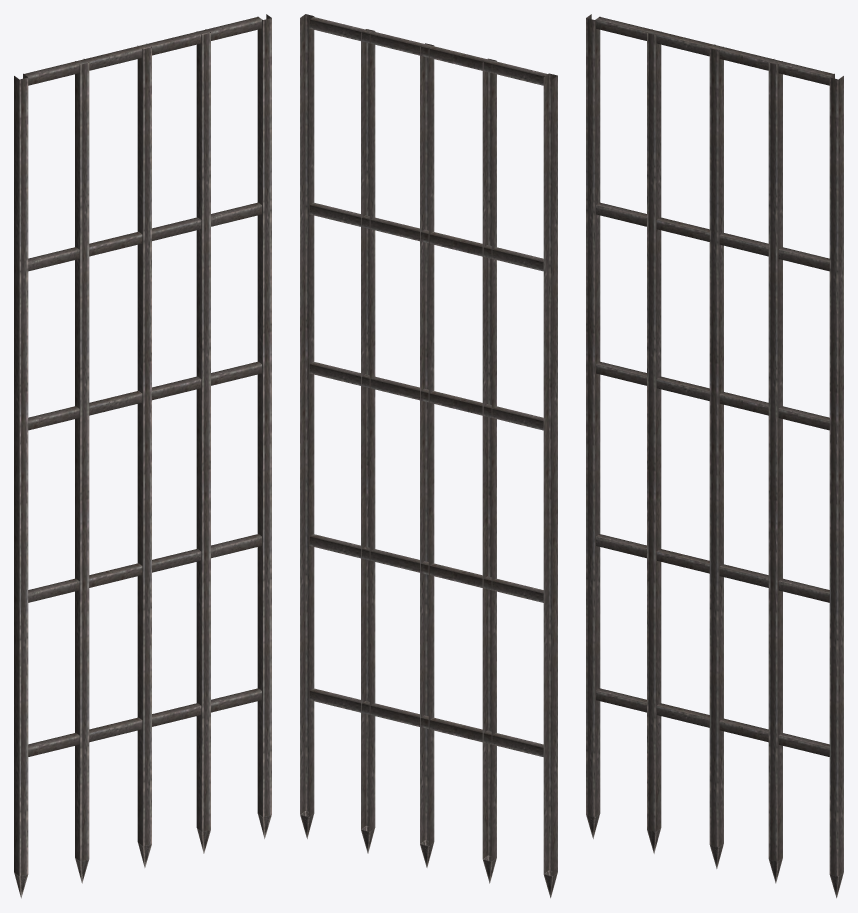
Rendered from ExportCeilingPeaks_01.FBX.
3 renders of one model, left to right at view 1: azimuth 30°, elevation 25°; view 2: azimuth 150°, elevation 25°; view 3: azimuth 330°, elevation 25°, orthographic.
Parts seen in each view (by area): view 1: door_cage_01; view 2: door_cage_01; view 3: door_cage_01.
Part boxes in pixels (bbox=[...]): door_cage_01: bbox=[14, 14, 271, 898]; door_cage_01: bbox=[300, 14, 557, 898]; door_cage_01: bbox=[586, 14, 843, 898].
Bounding box in the file's own units: 59.39 × 2.22 × 185.
